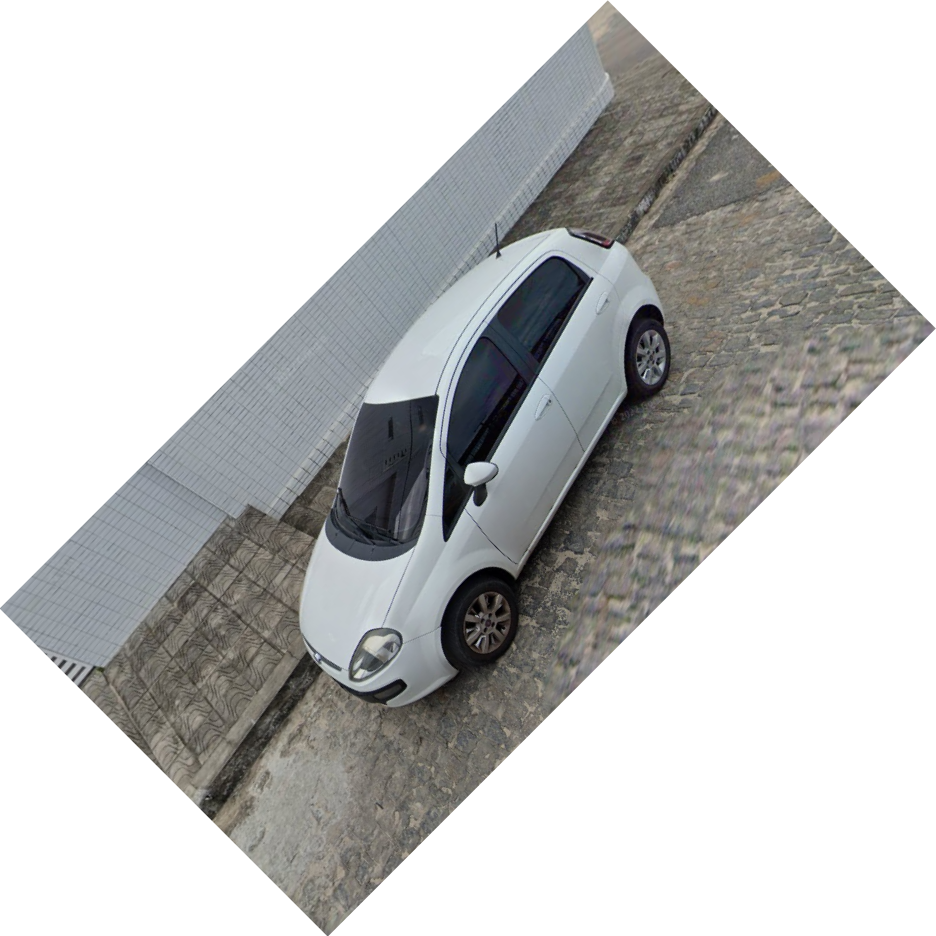car: (289, 211, 678, 716)
